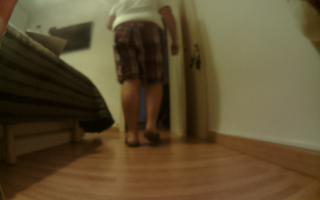person: (107, 1, 183, 148)
